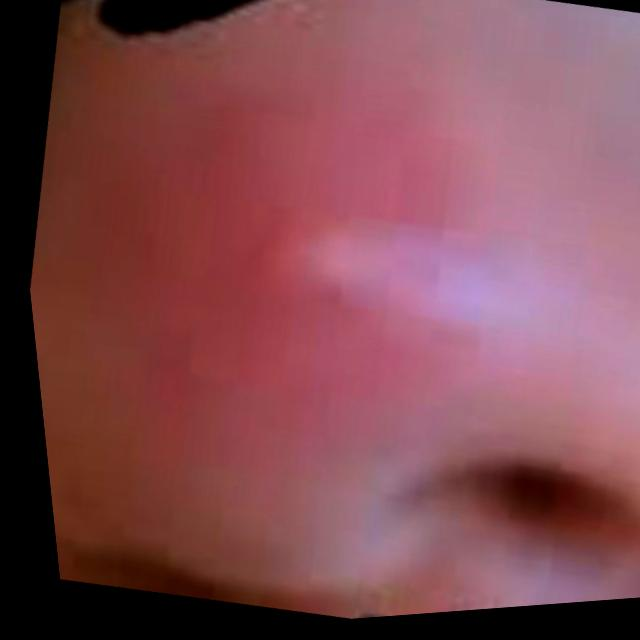nodule: (197, 137, 486, 364)
